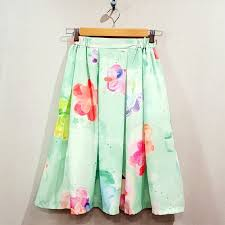C_skirt: (25, 30, 191, 221)
